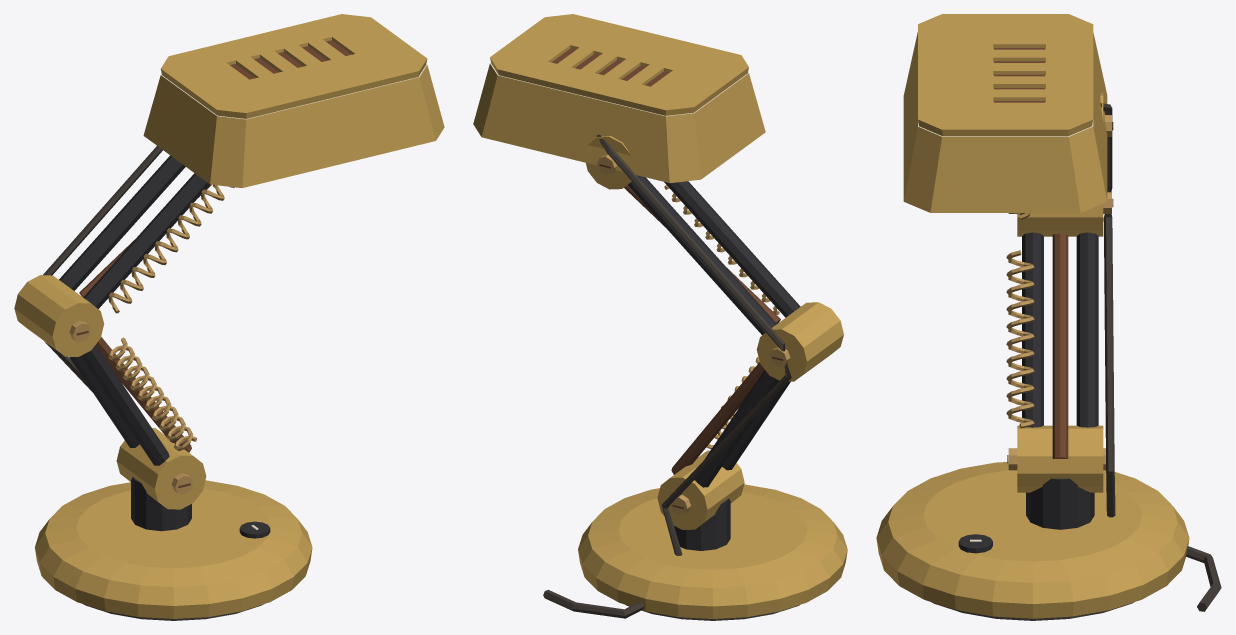
Rendered from 002_articulated_task_lamp_v02.glb.
3 views of the same model, side by side, from view 1: azimuth 30°, elevation 25°; view 2: azimuth 150°, elevation 25°; view 3: azimuth 270°, elevation 25° (orthographic). The views are drawn at different scales.
Visible parts, largest first — view 1: 002 weighted enamel base, 002 open rectangular enamel task shade, 002 solid enamel hood roof, 002 circular arm pivot 1, 002 circular arm pivot 0, 002 paired articulated link 1 -1, 002 paired articulated link 1 1, 002 paired articulated link 0 1, 002 lower counterbalance coil, 002 upper counterbalance coil, 002 base pivot tower, 002 exposed power cable (+2 smaller); view 2: 002 weighted enamel base, 002 open rectangular enamel task shade, 002 solid enamel hood roof, 002 circular arm pivot 1, 002 exposed power cable, 002 paired articulated link 1 1, 002 circular arm pivot 0, 002 paired articulated link 1 -1, 002 paired articulated link 0 -1, 002 tension linkage 0, 002 base pivot tower, 002 short plugged-in cable tail (+3 smaller); view 3: 002 weighted enamel base, 002 solid enamel hood roof, 002 open rectangular enamel task shade, 002 circular arm pivot 0, 002 paired articulated link 0 -1, 002 tension linkage 0, 002 paired articulated link 0 1, 002 exposed power cable, 002 base pivot tower, 002 lower counterbalance coil, 002 circular arm pivot 1, 002 short plugged-in cable tail (+1 smaller).
Boxes of the visible parts, x1=… form: 002 weighted enamel base: x1=35, y1=480, x2=312, y2=618; 002 open rectangular enamel task shade: x1=143, y1=64, x2=444, y2=188; 002 solid enamel hood roof: x1=160, y1=14, x2=427, y2=118; 002 circular arm pivot 1: x1=14, y1=275, x2=104, y2=356; 002 circular arm pivot 0: x1=116, y1=428, x2=206, y2=509; 002 paired articulated link 1 -1: x1=59, y1=155, x2=185, y2=290; 002 paired articulated link 1 1: x1=83, y1=173, x2=209, y2=308; 002 paired articulated link 0 1: x1=81, y1=345, x2=169, y2=465; 002 lower counterbalance coil: x1=108, y1=337, x2=196, y2=451; 002 upper counterbalance coil: x1=108, y1=185, x2=234, y2=313; 002 base pivot tower: x1=131, y1=477, x2=191, y2=531; 002 exposed power cable: x1=43, y1=146, x2=162, y2=392; 002 weighted enamel base: x1=578, y1=484, x2=847, y2=618; 002 open rectangular enamel task shade: x1=473, y1=63, x2=765, y2=183; 002 solid enamel hood roof: x1=490, y1=14, x2=748, y2=115; 002 circular arm pivot 1: x1=756, y1=302, x2=843, y2=381; 002 exposed power cable: x1=596, y1=134, x2=791, y2=555; 002 paired articulated link 1 1: x1=664, y1=181, x2=800, y2=317; 002 circular arm pivot 0: x1=657, y1=450, x2=744, y2=529; 002 paired articulated link 1 -1: x1=628, y1=175, x2=776, y2=335; 002 paired articulated link 0 -1: x1=695, y1=370, x2=779, y2=487; 002 tension linkage 0: x1=671, y1=362, x2=764, y2=474; 002 base pivot tower: x1=674, y1=498, x2=730, y2=550; 002 short plugged-in cable tail: x1=543, y1=589, x2=644, y2=618; 002 weighted enamel base: x1=876, y1=462, x2=1189, y2=618; 002 solid enamel hood roof: x1=918, y1=14, x2=1093, y2=136; 002 open rectangular enamel task shade: x1=903, y1=32, x2=1107, y2=212; 002 circular arm pivot 0: x1=1017, y1=425, x2=1103, y2=492; 002 paired articulated link 0 -1: x1=1076, y1=232, x2=1098, y2=427; 002 tension linkage 0: x1=1052, y1=233, x2=1068, y2=458; 002 paired articulated link 0 1: x1=1022, y1=232, x2=1043, y2=427; 002 exposed power cable: x1=1100, y1=103, x2=1115, y2=517; 002 base pivot tower: x1=1026, y1=478, x2=1094, y2=529; 002 lower counterbalance coil: x1=1006, y1=250, x2=1034, y2=428; 002 circular arm pivot 1: x1=1017, y1=203, x2=1103, y2=236; 002 short plugged-in cable tail: x1=1186, y1=546, x2=1221, y2=611.
Size of the model in its own units: 0.588 by 0.776 by 0.441.
